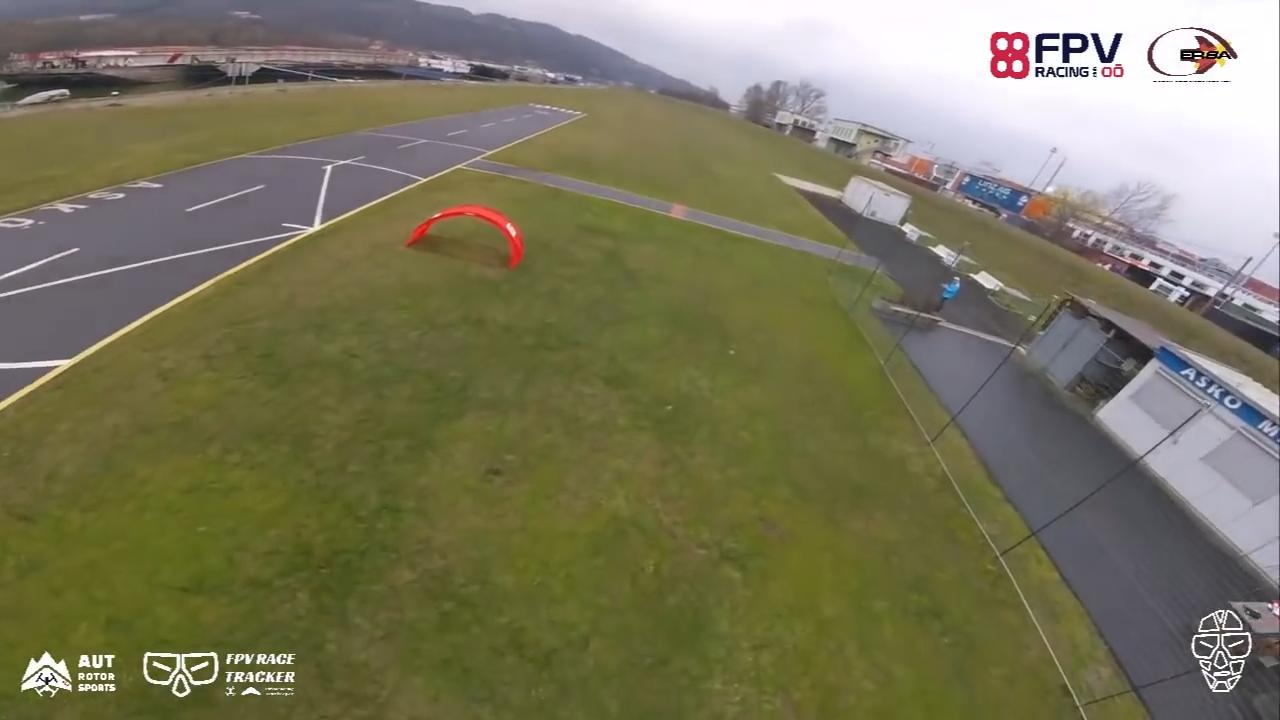gate: (403, 204, 526, 272)
